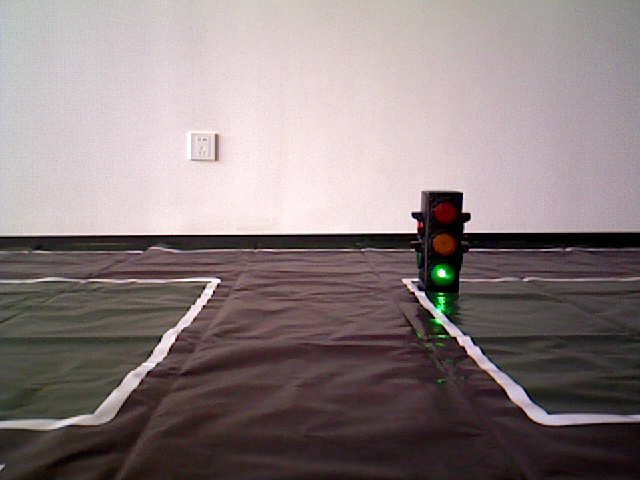green: (419, 193, 463, 286)
